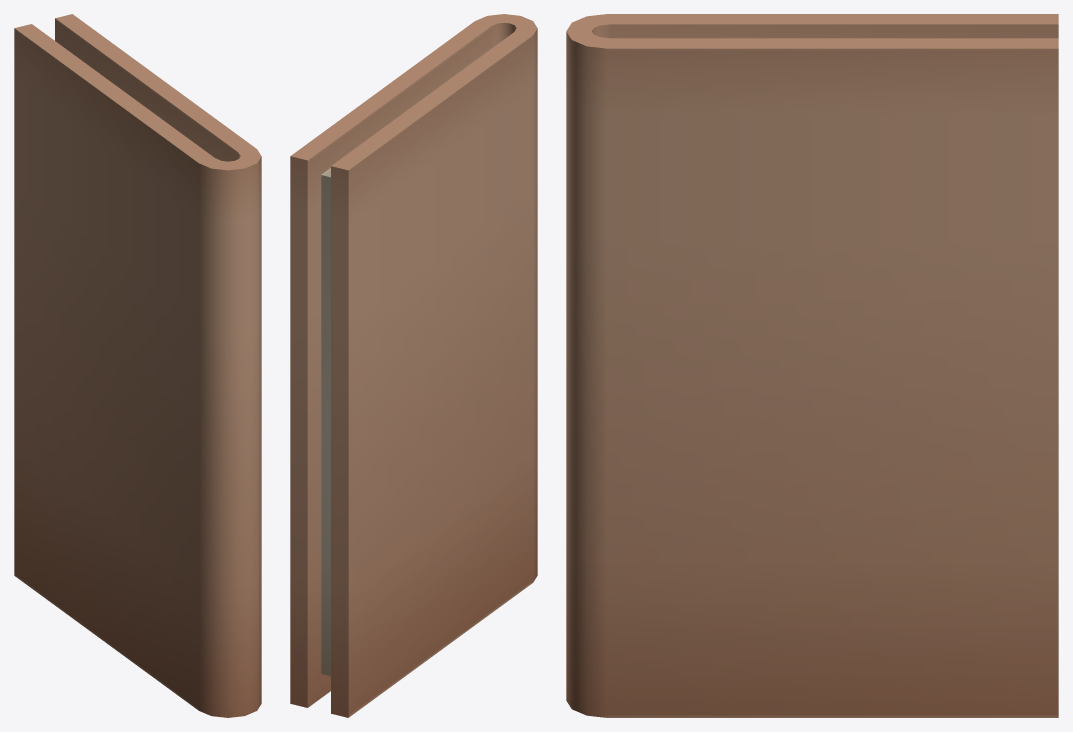
Rendered from BookBeige.fbx.
3 views of the same model, side by side, from view 1: azimuth 30°, elevation 25°; view 2: azimuth 150°, elevation 25°; view 3: azimuth 270°, elevation 25° (orthographic). The views are drawn at different scales.
Parts seen in each view (by area): view 1: BookBeige; view 2: BookBeige; view 3: BookBeige.
Part boxes in pixels (left/top/right/bottom): BookBeige: left=14, top=14, right=261, bottom=717; BookBeige: left=290, top=14, right=537, bottom=717; BookBeige: left=566, top=14, right=1058, bottom=717.
Size of the model in its own units: 10 by 90 by 60.
